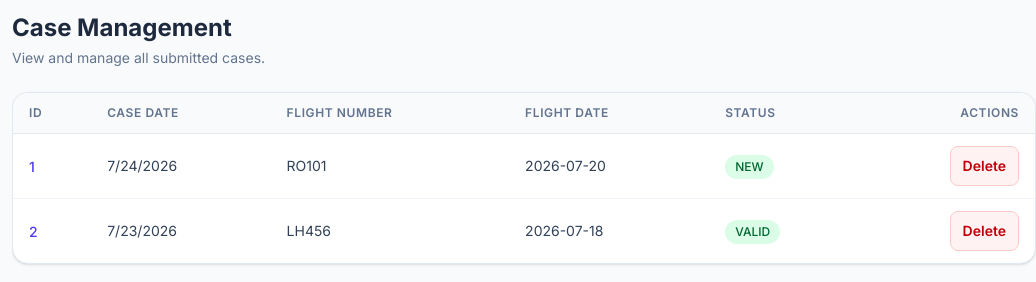
CaseManagementPage › can cancel deletion
The width and height of the screenshot is (1036, 282).
Expected: the text "RO101" is shown, [271,134,509,198]
Click the button "Delete" in the row of "7/24/2026": point(984, 166) [950,146,1019,186]
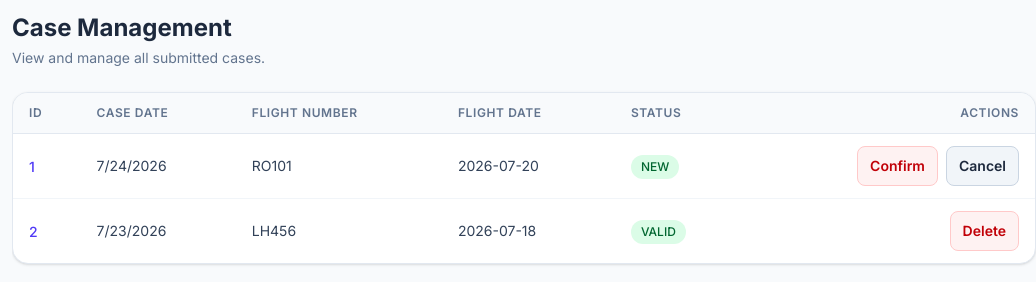
Click the button "Cancel": point(982, 166) [946,146,1019,186]
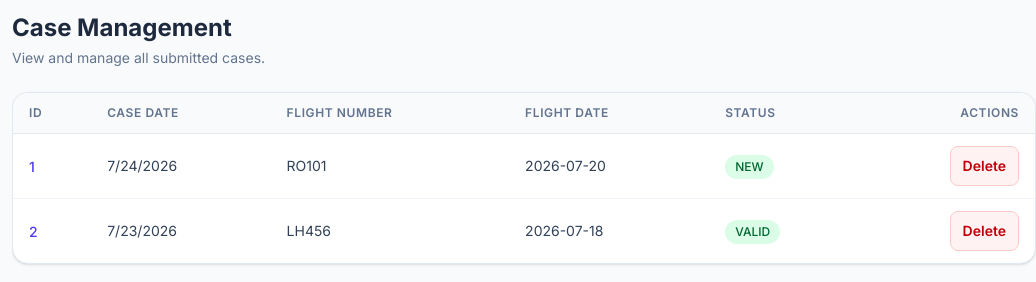
Result: the number of buttons "Delete" is 2 at [950,146,1019,186]; [950,211,1019,251]
